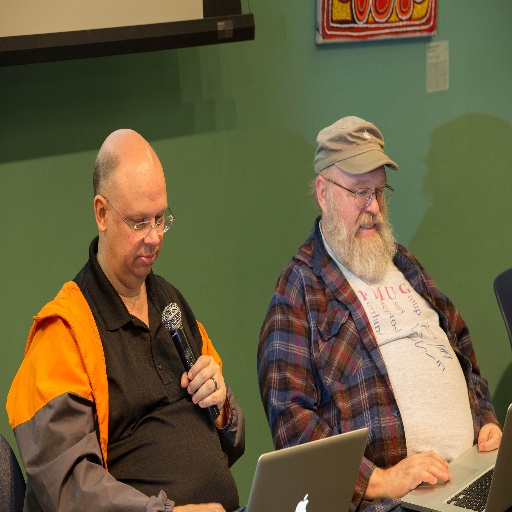hand: (384, 449, 452, 500), (176, 357, 228, 422), (476, 421, 502, 450), (173, 502, 225, 511)
